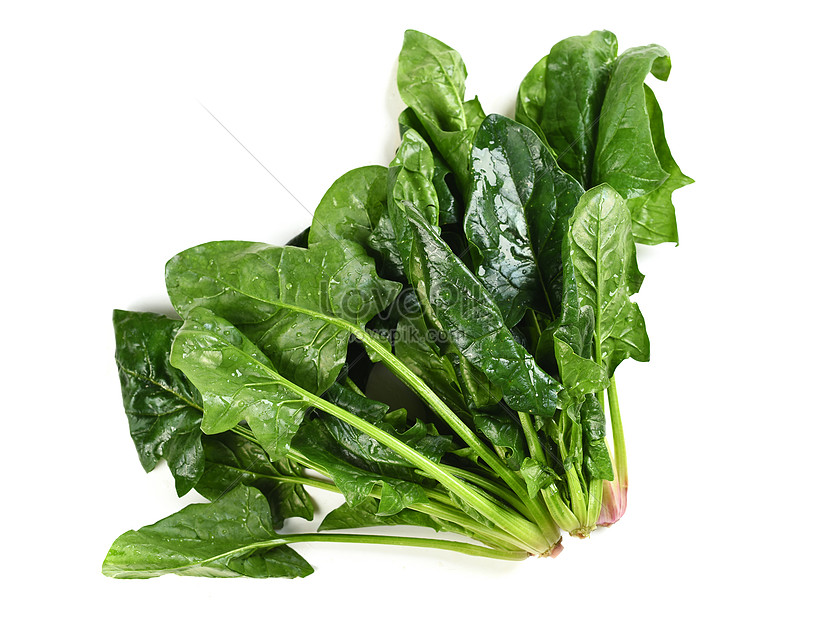Bayam: (100, 46, 771, 614)
